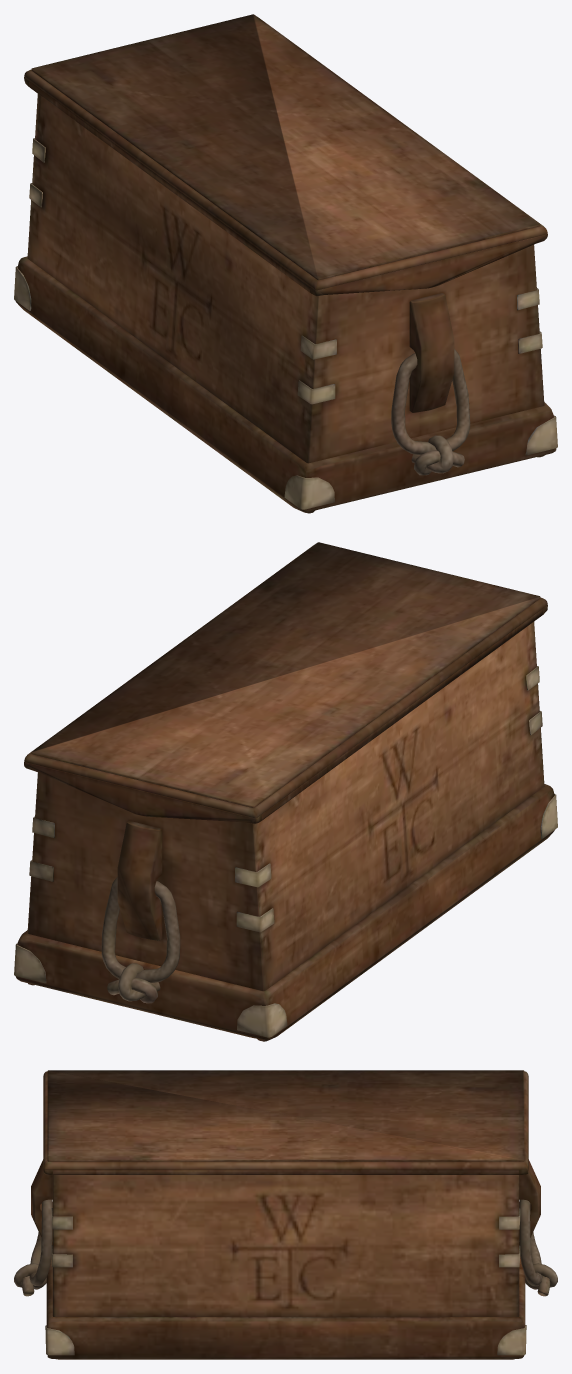
The model's file is crate2.glb.
3 views of the same model, one above another, from view 1: azimuth 30°, elevation 25°; view 2: azimuth 150°, elevation 25°; view 3: azimuth 270°, elevation 25° (orthographic). The views are drawn at different scales.
Visible parts, largest first — view 1: wooden_crate_02_crate, wooden_crate_02_lid; view 2: wooden_crate_02_crate, wooden_crate_02_lid; view 3: wooden_crate_02_crate, wooden_crate_02_lid.
Boxes of the visible parts, left/top/right/bottom form: wooden_crate_02_crate: left=14, top=94, right=557, bottom=513; wooden_crate_02_lid: left=24, top=14, right=547, bottom=296; wooden_crate_02_crate: left=14, top=621, right=557, bottom=1041; wooden_crate_02_lid: left=24, top=542, right=547, bottom=823; wooden_crate_02_crate: left=14, top=1159, right=557, bottom=1359; wooden_crate_02_lid: left=43, top=1070, right=528, bottom=1174.
Size of the model in its own units: 0.5291 by 0.464 by 1.17.
Materials: 1 (1 with a texture image).
